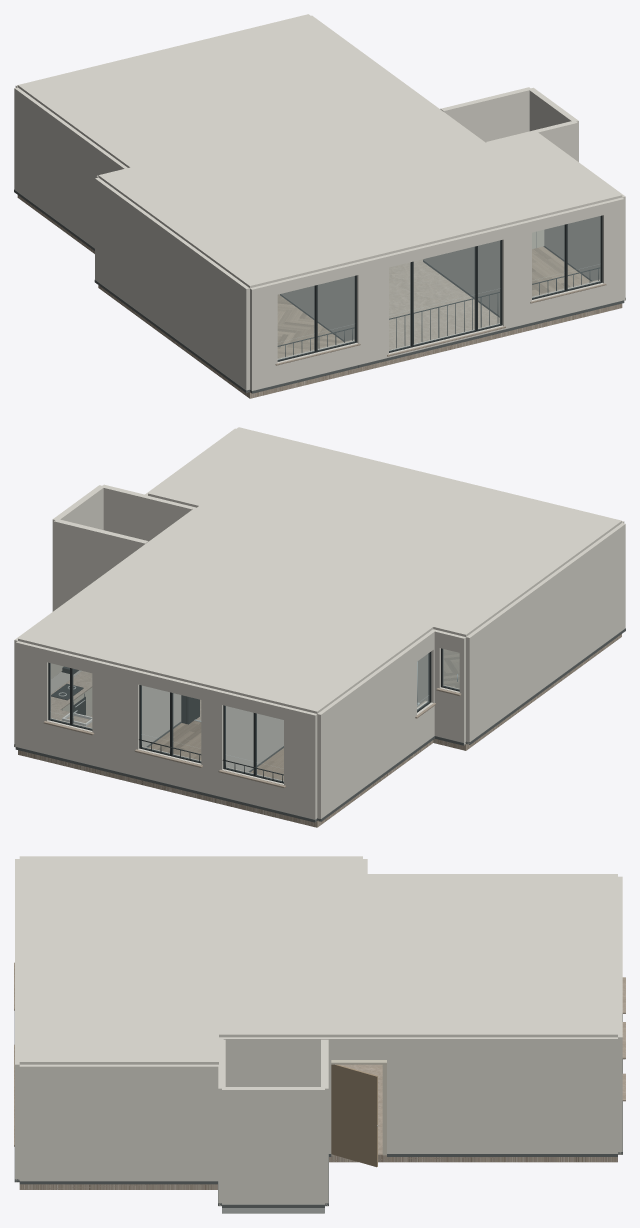
The model's file is apartment-v01.glb.
3 views of the same model, one above another, from view 1: azimuth 30°, elevation 25°; view 2: azimuth 150°, elevation 25°; view 3: azimuth 270°, elevation 25° (orthographic). The views are drawn at different scales.
Visible parts, largest first — view 1: Ceiling_main, wall_west_south_0_0_upper, wall_west_south_0_0_lower, Continuous_public_stone, wall_west_north_0_0_upper, wall_west_north_0_0_lower, wall_elevator_north_0_0_upper, Living_south_glass_upper.001, Apartment_floor_slab, Living_south_glass_lower.001, wall_living_se_2_0_lower, floor_master (+35 smaller); view 2: Ceiling_main, wall_west_south_0_0_upper, wall_west_south_0_0_lower, wall_west_north_0_0_upper, wall_west_north_0_0_lower, wall_elevator_north_0_0_upper, wall_elevator_south_0_0_upper, wall_north_4_0_upper, Apartment_floor_slab, wall_north_6_0_upper, wall_north_0_0_upper, wall_north_4_0_lower (+28 smaller); view 3: Ceiling_main, wall_east_north_0_0_upper, wall_east_south_0_0_upper, wall_east_north_0_0_lower, wall_east_south_0_0_lower, wall_elevator_east_0_0_upper, wall_east_elevator_0_0_upper, wall_elevator_east_0_0_lower, Apartment_floor_slab, door_entry_lower, door_entry_upper, wall_east_north_1_1_upper (+6 smaller).
Boxes of the visible parts, x1,y1,x2,y2 form: Ceiling_main: (17, 14, 622, 288); wall_west_south_0_0_upper: (95, 177, 249, 350); wall_west_south_0_0_lower: (95, 240, 249, 390); Continuous_public_stone: (279, 259, 499, 348); wall_west_north_0_0_upper: (14, 87, 110, 207); wall_west_north_0_0_lower: (14, 149, 94, 247); wall_elevator_north_0_0_upper: (440, 87, 531, 142); Living_south_glass_upper.001: (414, 247, 475, 309); Apartment_floor_slab: (17, 195, 622, 398); Living_south_glass_lower.001: (414, 295, 475, 344); wall_living_se_2_0_lower: (423, 249, 499, 315); floor_master: (277, 294, 342, 357); Ceiling_main: (18, 427, 621, 713); wall_west_south_0_0_upper: (466, 523, 625, 700); wall_west_south_0_0_lower: (466, 587, 625, 744); wall_west_north_0_0_upper: (317, 644, 416, 777); wall_west_north_0_0_lower: (317, 708, 416, 821); wall_elevator_north_0_0_upper: (53, 519, 148, 590); wall_elevator_south_0_0_upper: (101, 484, 194, 541); wall_north_4_0_upper: (92, 659, 142, 735); Apartment_floor_slab: (18, 634, 621, 827); wall_north_6_0_upper: (15, 641, 50, 712); wall_north_0_0_upper: (284, 706, 317, 778); wall_north_4_0_lower: (92, 724, 142, 776); Ceiling_main: (19, 856, 617, 1064); wall_east_north_0_0_upper: (387, 1037, 617, 1108); wall_east_south_0_0_upper: (19, 1064, 218, 1135); wall_east_north_0_0_lower: (387, 1108, 617, 1153); wall_east_south_0_0_lower: (19, 1136, 218, 1181); wall_elevator_east_0_0_upper: (222, 1087, 324, 1159); wall_east_elevator_0_0_upper: (219, 1037, 325, 1086); wall_elevator_east_0_0_lower: (222, 1159, 324, 1204); Apartment_floor_slab: (19, 1154, 617, 1189); door_entry_lower: (331, 1107, 377, 1167); door_entry_upper: (331, 1064, 377, 1119); wall_east_north_1_1_upper: (331, 1037, 386, 1059).
Size of the model in its own units: 11.92 by 3.04 by 13.2.
Materials: 18 (8 with a texture image).
